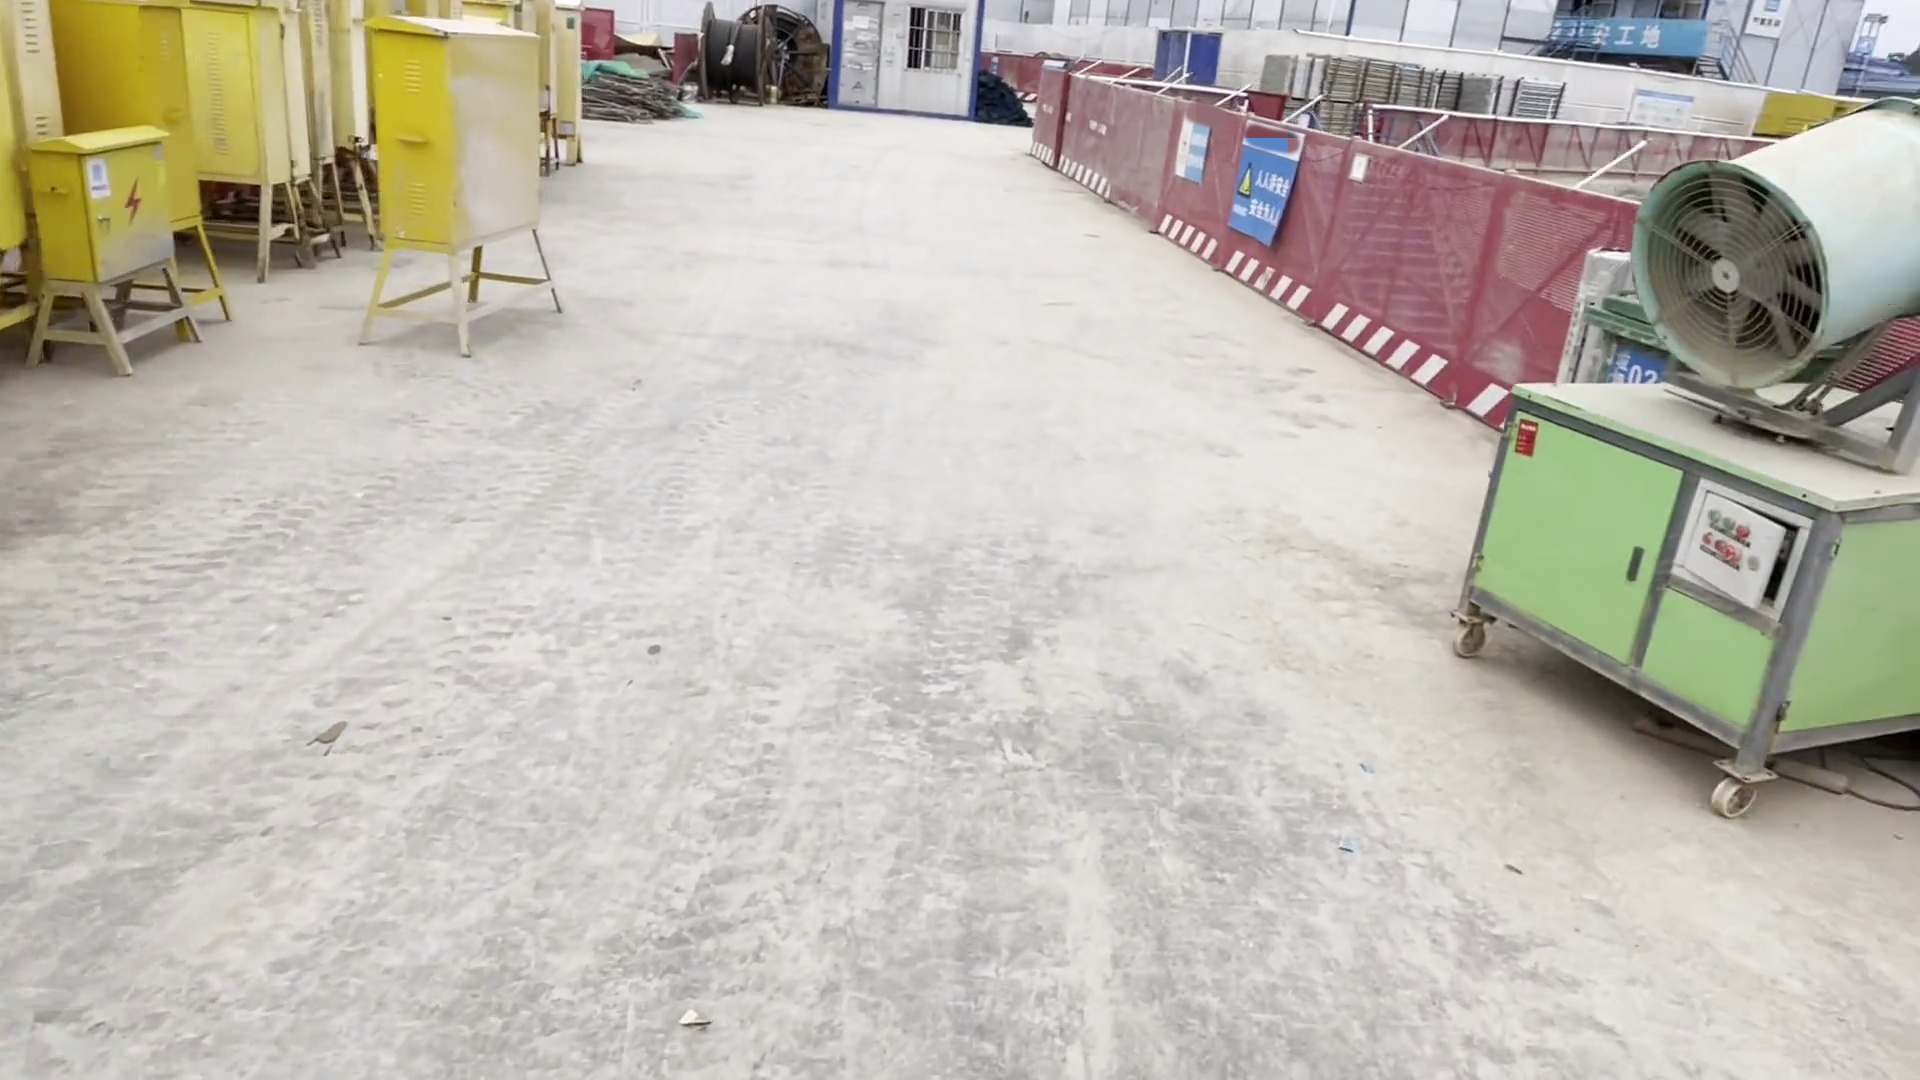ebox: (360, 15, 570, 363), (30, 113, 222, 375)
fence: (1319, 138, 1465, 419), (1441, 164, 1600, 394), (1174, 94, 1313, 323), (1011, 67, 1167, 252)
slogan: (1218, 153, 1287, 233), (1171, 124, 1205, 183)
